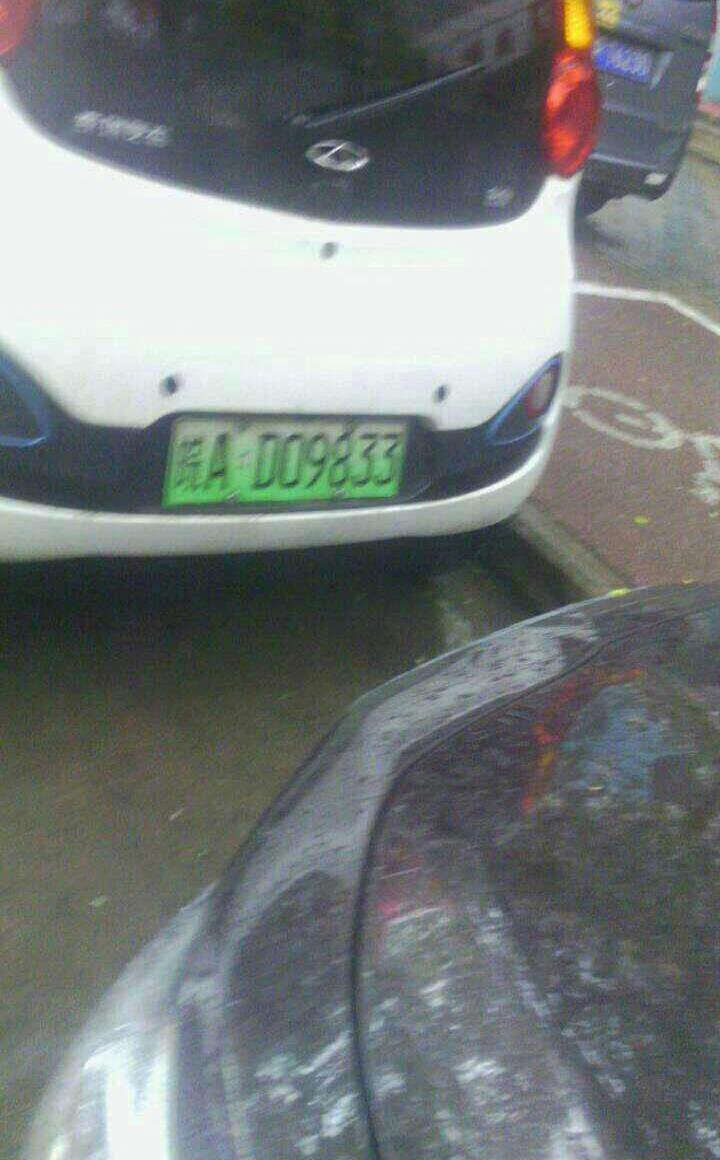car: (156, 398, 434, 508)
